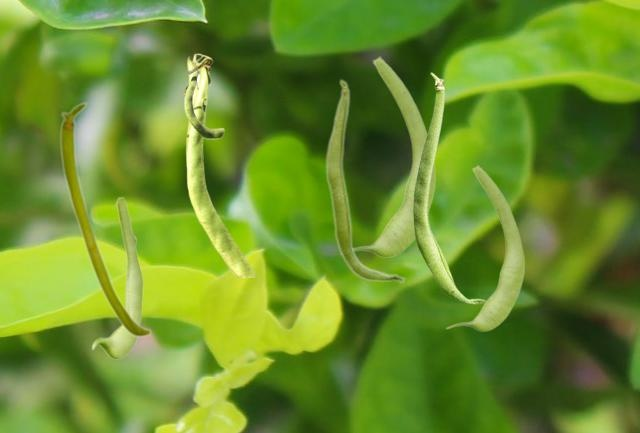french_bean: (59, 101, 151, 337), (413, 72, 485, 303), (324, 78, 405, 283), (183, 53, 256, 276), (355, 55, 435, 256), (445, 164, 524, 330), (91, 196, 142, 358)
